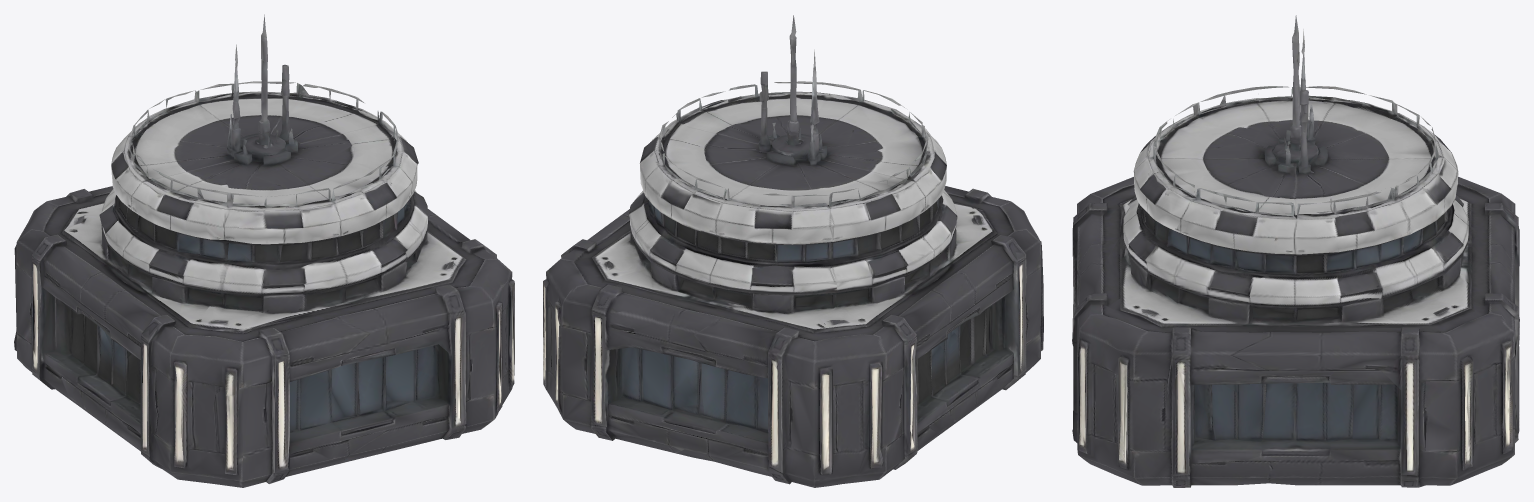
The model's file is hubDrum.glb.
3 views of the same model, side by side, from view 1: azimuth 30°, elevation 25°; view 2: azimuth 150°, elevation 25°; view 3: azimuth 270°, elevation 25° (orthographic). The views are drawn at different scales.
Parts seen in each view (by area): view 1: hubDrum; view 2: hubDrum; view 3: hubDrum.
Boxes of the visible parts, left/top/right/bottom form: hubDrum: left=14, top=14, right=514, bottom=487; hubDrum: left=543, top=15, right=1043, bottom=487; hubDrum: left=1072, top=15, right=1519, bottom=487.
Bounding box in the file's own units: 26 × 26.59 × 27.58.
1 material, 1 textured.
